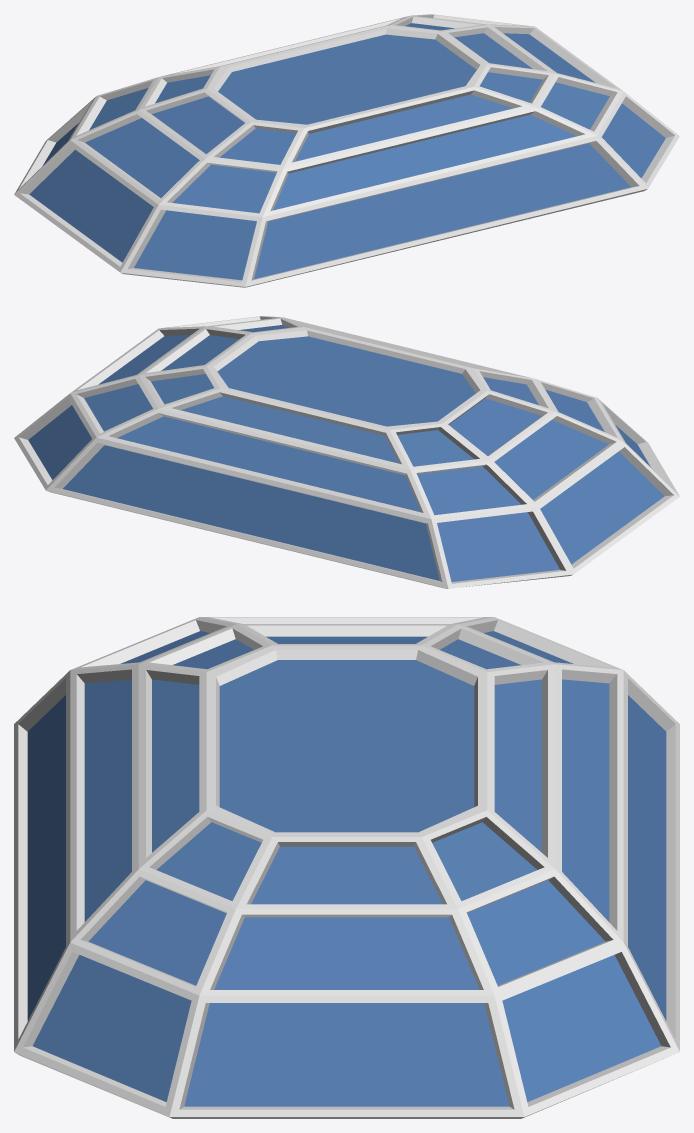
The model's file is Greenhouse Roof.fbx.
3 renders of one model, top to bottom at view 1: azimuth 30°, elevation 25°; view 2: azimuth 150°, elevation 25°; view 3: azimuth 270°, elevation 25°, orthographic. The views are drawn at different scales.
Parts seen in each view (by area): view 1: Glass Roof, Roof Metal; view 2: Glass Roof, Roof Metal; view 3: Glass Roof, Roof Metal.
Part boxes in pixels (left/top/right/bottom): Glass Roof: left=29, top=23, right=665, bottom=280; Roof Metal: left=14, top=14, right=679, bottom=287; Glass Roof: left=28, top=325, right=664, bottom=581; Roof Metal: left=14, top=316, right=679, bottom=588; Glass Roof: left=27, top=631, right=666, bottom=1106; Roof Metal: left=14, top=617, right=679, bottom=1118.
Size of the model in its own units: 995 by 157 by 615.
